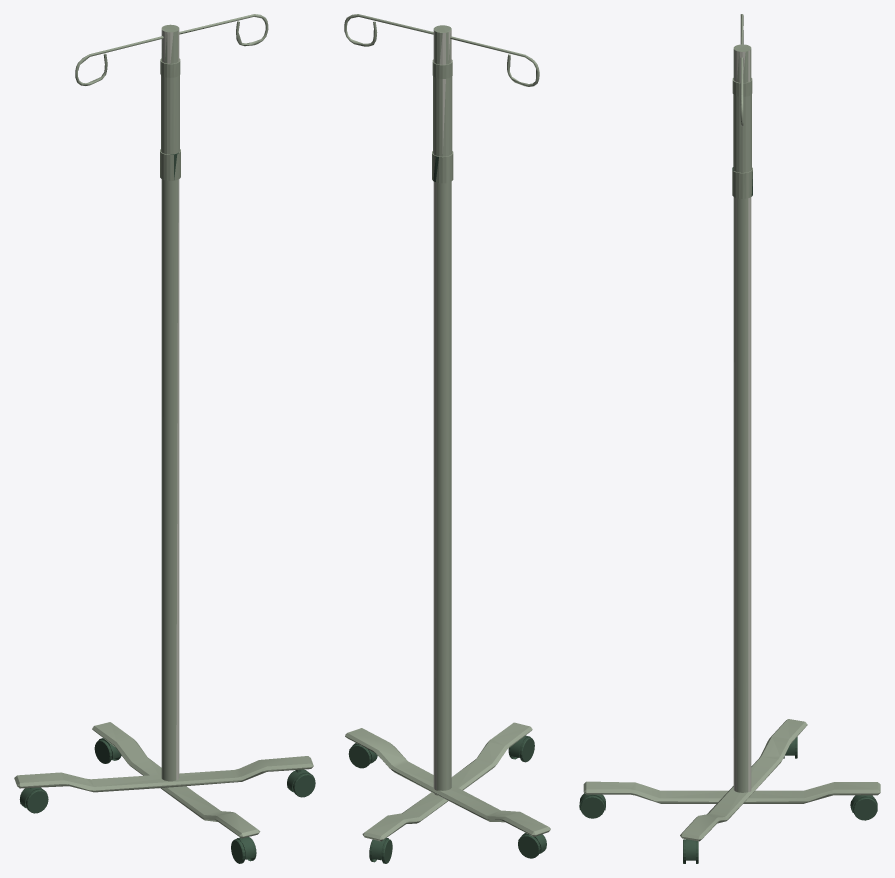
File: iv-stand.glb
3 views of the same model, side by side, from view 1: azimuth 30°, elevation 25°; view 2: azimuth 150°, elevation 25°; view 3: azimuth 270°, elevation 25° (orthographic). The views are drawn at different scales.
Parts seen in each view (by area): view 1: Cylinder001_Material #3_0, Wheel 1_Material #2_0; view 2: Cylinder001_Material #3_0, Wheel 1_Material #2_0; view 3: Cylinder001_Material #3_0, Wheel 1_Material #2_0.
Part boxes in pixels (left/top/right/bottom): Cylinder001_Material #3_0: left=14, top=14, right=313, bottom=838; Wheel 1_Material #2_0: left=19, top=738, right=315, bottom=863; Cylinder001_Material #3_0: left=344, top=14, right=550, bottom=841; Wheel 1_Material #2_0: left=348, top=735, right=546, bottom=863; Cylinder001_Material #3_0: left=583, top=14, right=880, bottom=841; Wheel 1_Material #2_0: left=579, top=737, right=877, bottom=863.
Bounding box in the file's own units: 6250 × 18728 × 6645.
